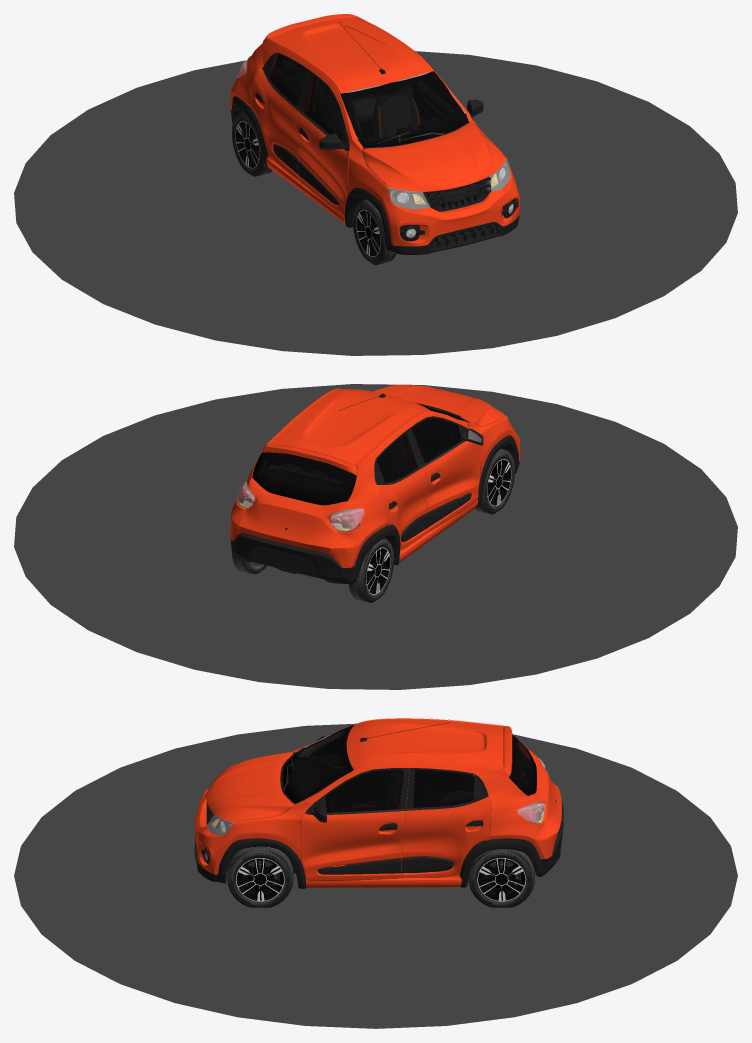
Rendered from car_generic_hatchback_gameready_with_interior.glb.
3 views of the same model, one above another, from view 1: azimuth 30°, elevation 25°; view 2: azimuth 150°, elevation 25°; view 3: azimuth 270°, elevation 25° (orthographic).
Parts seen in each view (by area): view 1: Circle, Bodywork, Window, Bodywork Plastic, Right Front Door.019, Right Back Door.014, Right Front Door, Right Back Door, Front Light, Right Front Tire.001, Left Front Seat.003, Right Back Tire (+6 smaller); view 2: Circle, Bodywork, Trunk.002, Bodywork Plastic, Trunk.001, Right Front Door.019, Right Back Door.014, Right Front Door, Right Back Door, Right Back Tire.001, Rear Light, Right Front Tire.001 (+6 smaller); view 3: Circle, Bodywork, Right Front Door.016, Right Back Door.016, Bodywork Plastic, Window, Right Front Door.007, Left Front Tire.001, Right Back Door.006, Left back Tire.001, Trunk.002, Left back Tire (+9 smaller).
Boxes of the visible parts, left/top/right/bottom form: Circle: left=14, top=51, right=737, bottom=355; Bodywork: left=230, top=16, right=520, bottom=246; Window: left=340, top=71, right=467, bottom=147; Bodywork Plastic: left=230, top=96, right=519, bottom=254; Right Front Door.019: left=295, top=72, right=349, bottom=216; Right Back Door.014: left=251, top=57, right=299, bottom=179; Right Front Door: left=303, top=74, right=344, bottom=140; Right Back Door: left=268, top=54, right=306, bottom=105; Front Light: left=387, top=159, right=510, bottom=209; Right Front Tire.001: left=352, top=199, right=396, bottom=265; Left Front Seat.003: left=382, top=96, right=409, bottom=131; Right Back Tire: left=235, top=121, right=260, bottom=167; Circle: left=14, top=384, right=737, bottom=689; Bodywork: left=230, top=384, right=520, bottom=567; Trunk.002: left=239, top=444, right=356, bottom=554; Bodywork Plastic: left=230, top=435, right=519, bottom=583; Trunk.001: left=252, top=452, right=356, bottom=505; Right Front Door.019: left=410, top=423, right=480, bottom=532; Right Back Door.014: left=377, top=467, right=427, bottom=549; Right Front Door: left=411, top=418, right=461, bottom=463; Right Back Door: left=376, top=433, right=417, bottom=482; Right Back Tire.001: left=348, top=538, right=394, bottom=602; Rear Light: left=237, top=481, right=364, bottom=531; Right Front Tire.001: left=475, top=448, right=514, bottom=514; Circle: left=14, top=723, right=737, bottom=1028; Bodywork: left=194, top=718, right=558, bottom=887; Right Front Door.016: left=300, top=794, right=405, bottom=880; Right Back Door.016: left=402, top=796, right=491, bottom=878; Bodywork Plastic: left=194, top=801, right=563, bottom=888; Window: left=283, top=725, right=353, bottom=803; Right Front Door.007: left=325, top=770, right=404, bottom=812; Left Front Tire.001: left=227, top=846, right=293, bottom=907; Right Back Door.006: left=413, top=770, right=474, bottom=807; Left back Tire.001: left=468, top=849, right=534, bottom=907; Trunk.002: left=503, top=726, right=561, bottom=831; Left back Tire: left=478, top=857, right=525, bottom=900.
Bounding box in the file's own units: 6.94 × 1.65 × 6.94.
Materials: 31 (19 with a texture image).
